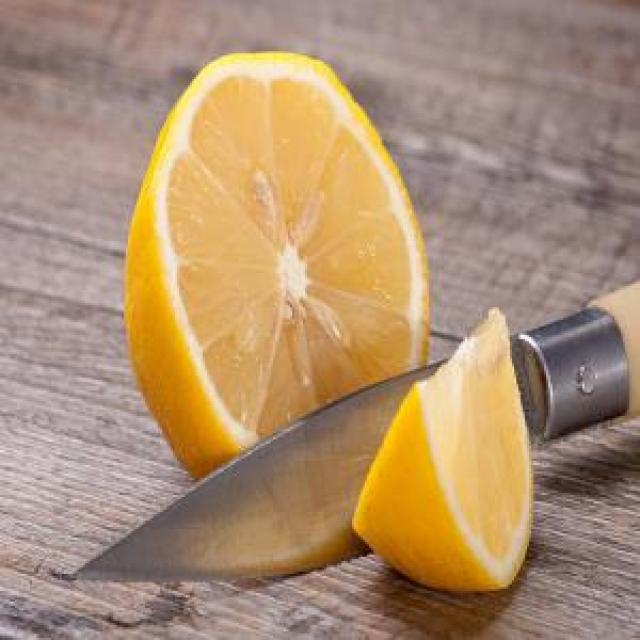knife: (62, 282, 638, 588)
